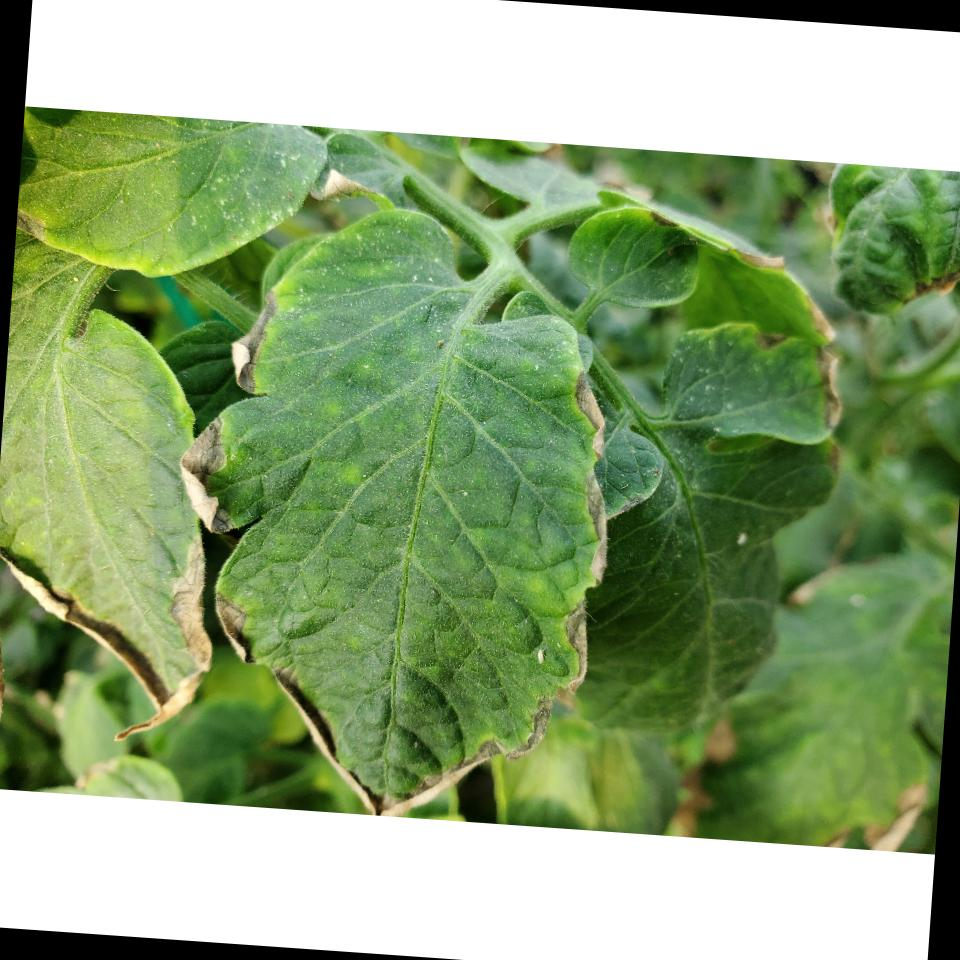tomato_bacterial_blight: (194, 307, 630, 826)
